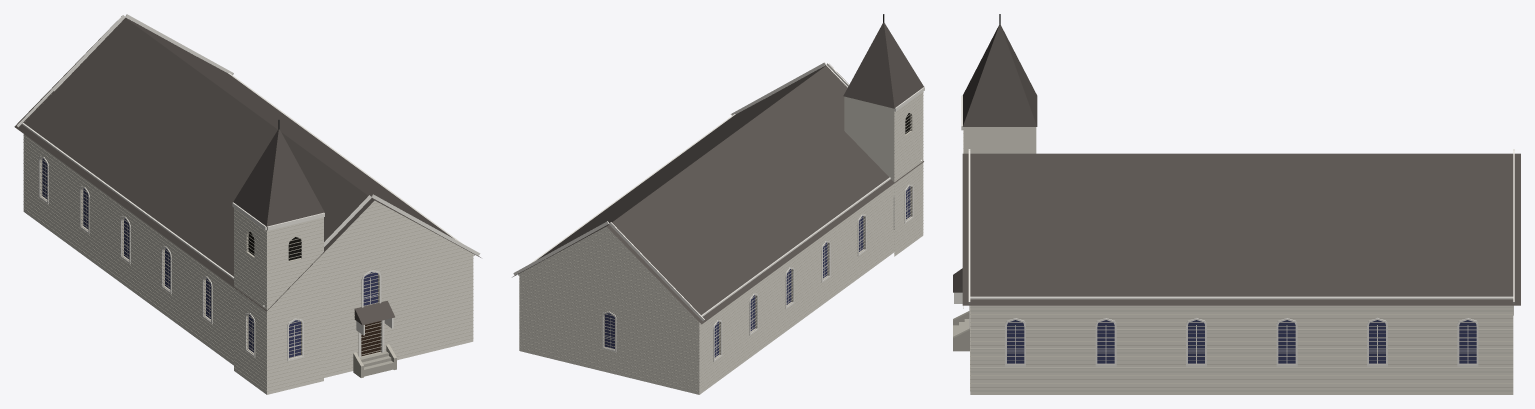
Rendered from ch-third-street-christian-1913.glb.
3 renders of one model, left to right at view 1: azimuth 30°, elevation 25°; view 2: azimuth 150°, elevation 25°; view 3: azimuth 270°, elevation 25°, orthographic. The views are drawn at different scales.
Parts seen in each view (by area): view 1: ch_brick, ch_roof, ch_brick2, ch_trim, ch_roof2, ch_stain, ch_conc, ch_door; view 2: ch_brick, ch_roof, ch_brick2, ch_trim, ch_roof2, ch_stain; view 3: ch_roof, ch_brick, ch_brick2, ch_trim, ch_roof2, ch_stain, ch_conc.
Part boxes in pixels (<box>): ch_brick: <box>23,134,473,394</box>; ch_roof: <box>14,16,480,311</box>; ch_brick2: <box>23,26,473,391</box>; ch_trim: <box>17,14,480,361</box>; ch_roof2: <box>233,129,394,325</box>; ch_stain: <box>42,158,377,357</box>; ch_conc: <box>353,344,396,377</box>; ch_door: <box>361,321,380,356</box>; ch_brick: <box>519,92,923,394</box>; ch_roof: <box>512,64,923,324</box>; ch_brick2: <box>519,92,923,391</box>; ch_trim: <box>513,62,924,361</box>; ch_roof2: <box>843,22,923,108</box>; ch_stain: <box>604,186,910,357</box>; ch_roof: <box>962,153,1520,305</box>; ch_brick: <box>963,127,1513,394</box>; ch_brick2: <box>963,129,1513,391</box>; ch_trim: <box>954,95,1514,366</box>; ch_roof2: <box>953,25,1037,292</box>; ch_stain: <box>1007,320,1476,363</box>; ch_conc: <box>953,311,969,351</box>.
Bounding box in the file's own units: 14.53 × 16.45 × 29.71.
